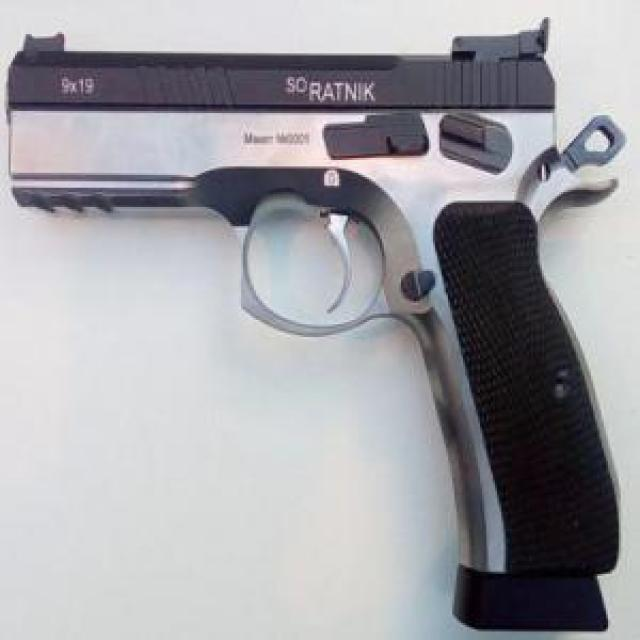pistol: (9, 21, 628, 635)
